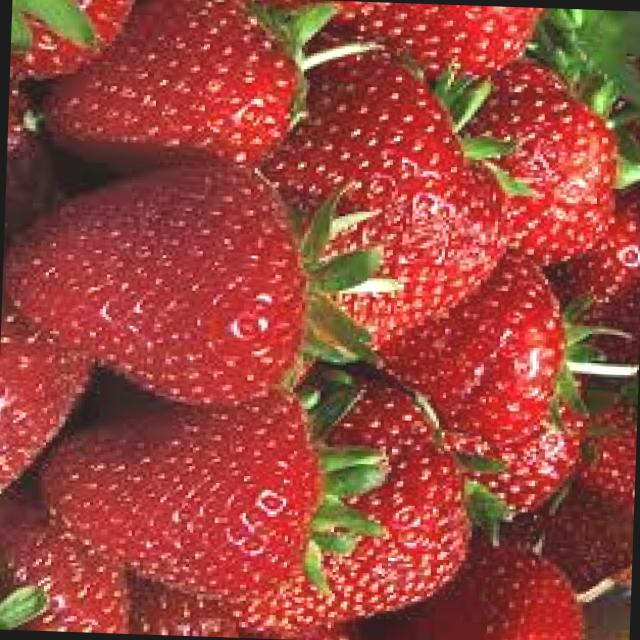strawberry: (4, 149, 350, 415), (36, 376, 350, 614), (32, 0, 320, 180)
